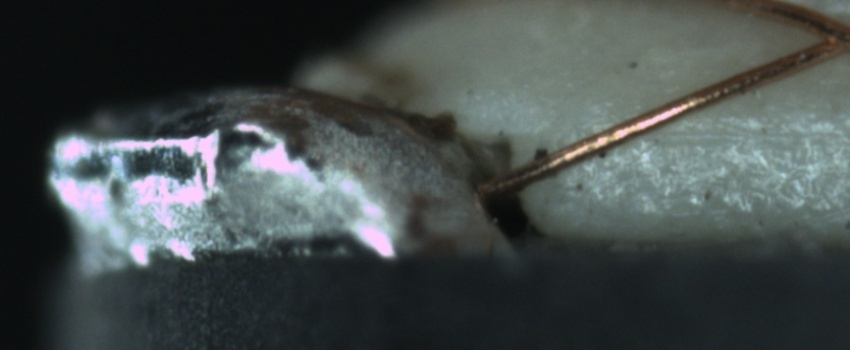CL: (795, 7, 849, 63)
DL: (634, 103, 850, 161)
